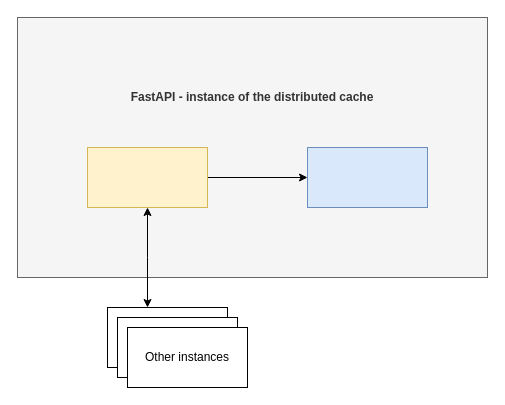
This 505x405 diagram has some shape labels left out. Each missing label, with the centre of its shape:
Cached.py (OrderedDict): pixel 367 177
Distributed.py (uses FastAPI HTTP): pixel 147 177
